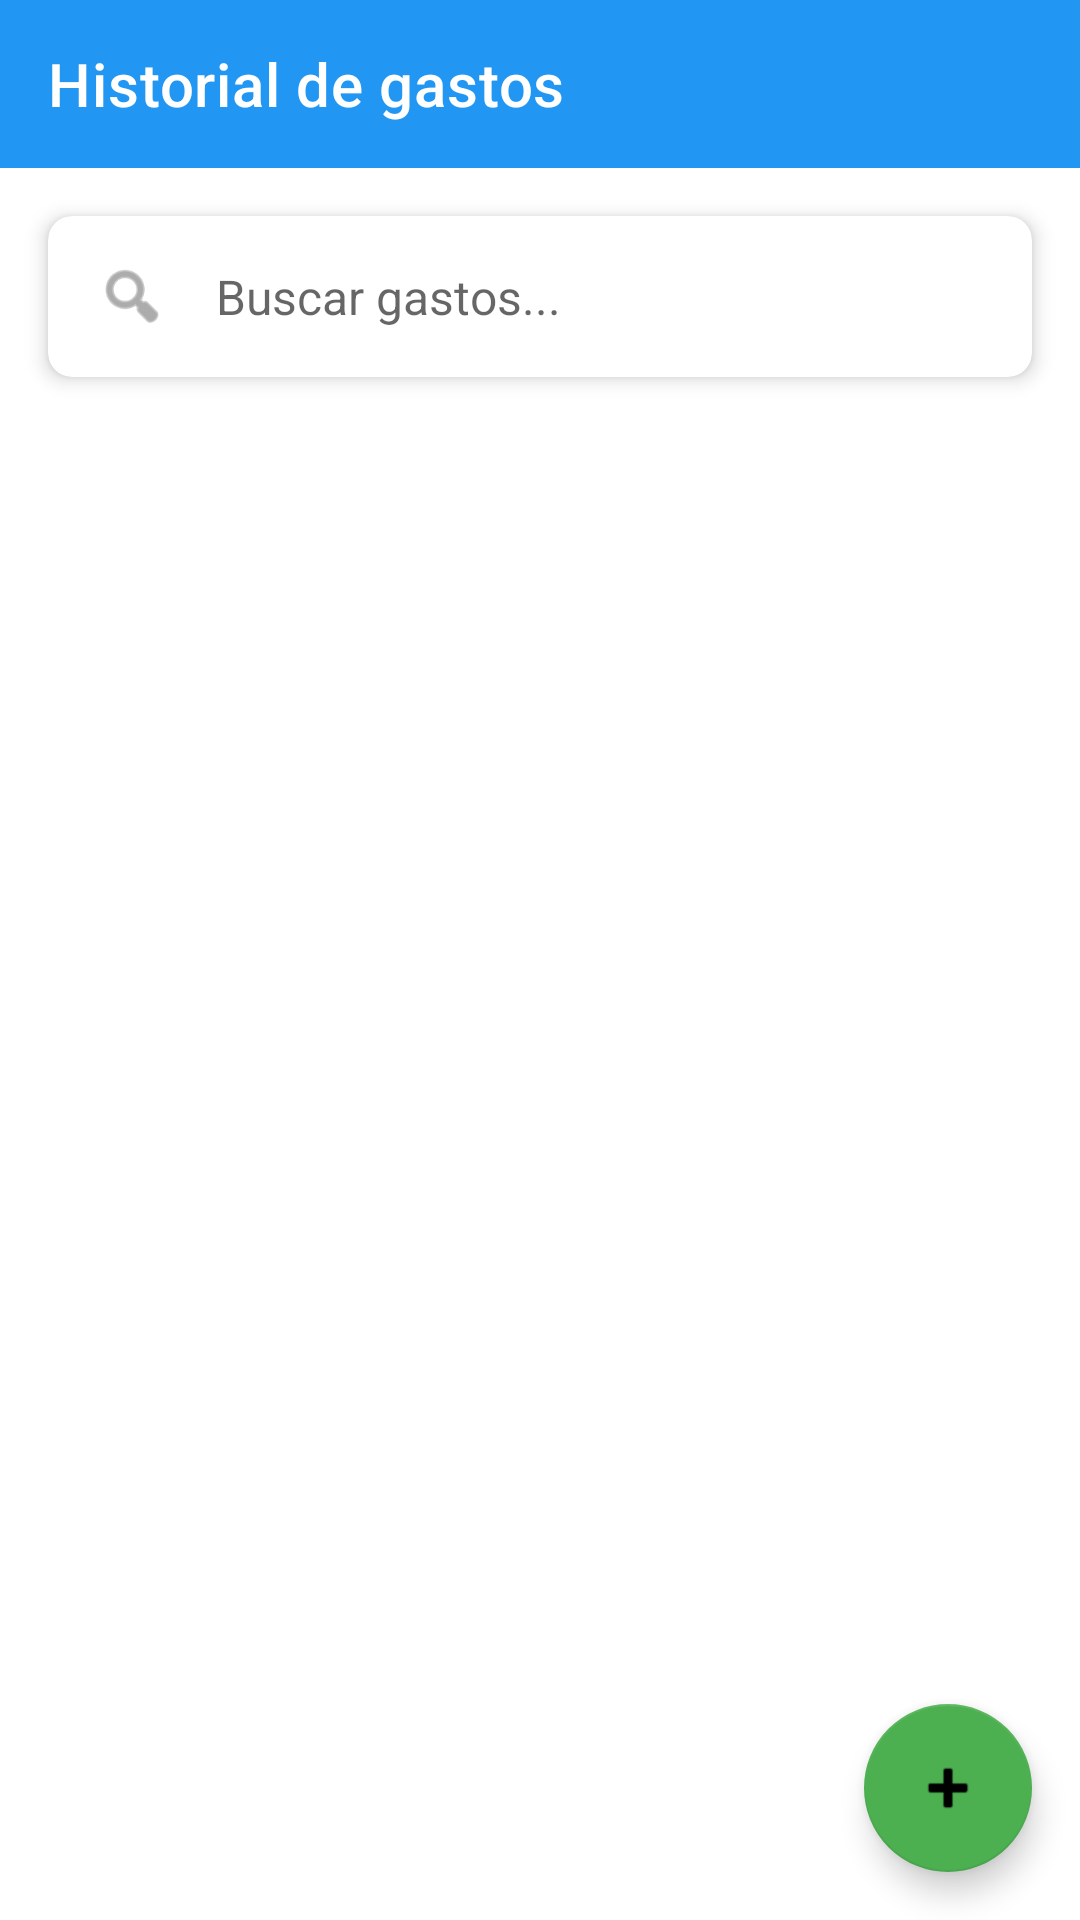

Icons on this 1080 × 1920 Android screen, each with the point to tap as (x=x, y=y):
add: (x=948, y=1788)
search: (x=132, y=296)
